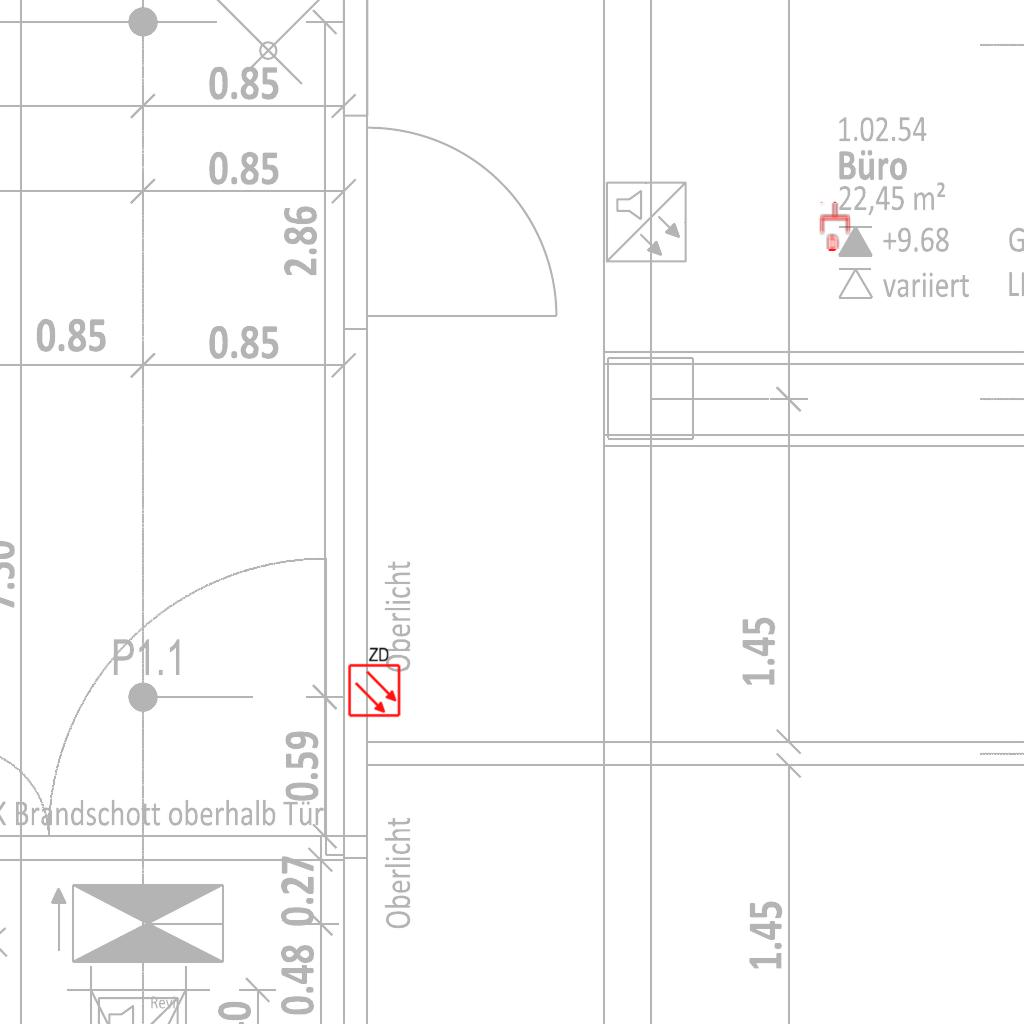Datenanschluss_einfach: (818, 201, 852, 251)
ZD_Melder_in_Zwischendecke_mit_Revisionsoeffnung_mind_40_x_40_cm: (345, 644, 402, 718)
